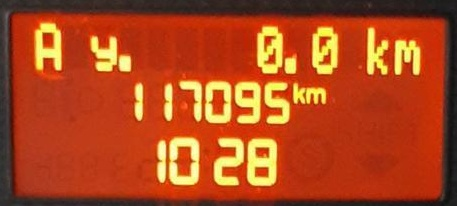-: (117, 52, 134, 74), (283, 54, 298, 76)
0: (167, 135, 200, 186), (310, 24, 339, 75), (255, 22, 283, 74), (203, 79, 230, 123)
1: (153, 135, 167, 190), (129, 80, 144, 125), (162, 80, 173, 124)
2: (211, 133, 244, 186)
5: (263, 79, 290, 125)
7: (177, 77, 202, 122)
8: (246, 136, 276, 187)
9: (233, 80, 261, 124)
X: (32, 21, 63, 73), (363, 23, 391, 78), (392, 36, 421, 77), (89, 31, 117, 73), (305, 84, 327, 105), (291, 79, 305, 106)
